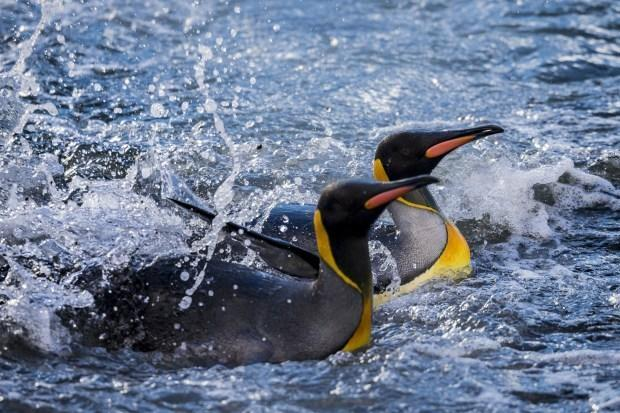Penguin: (166, 124, 503, 308), (133, 174, 438, 364)
